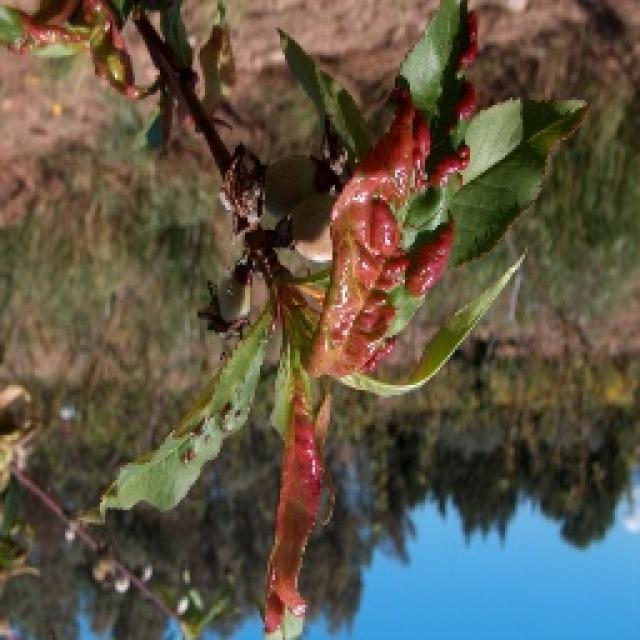Golden_canker: (0, 0, 590, 638)
peach_leaf_curl: (270, 92, 491, 377)
